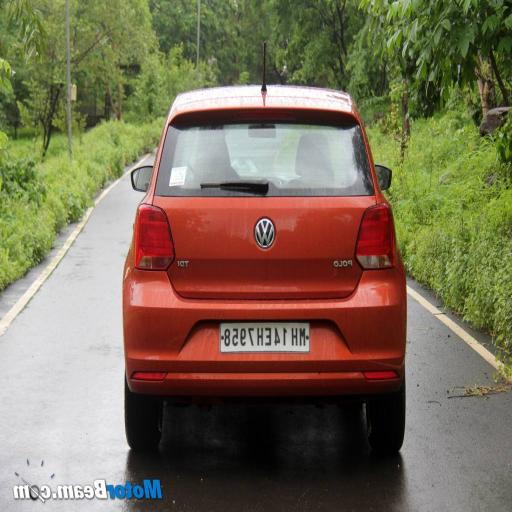License: (214, 317, 312, 357)
